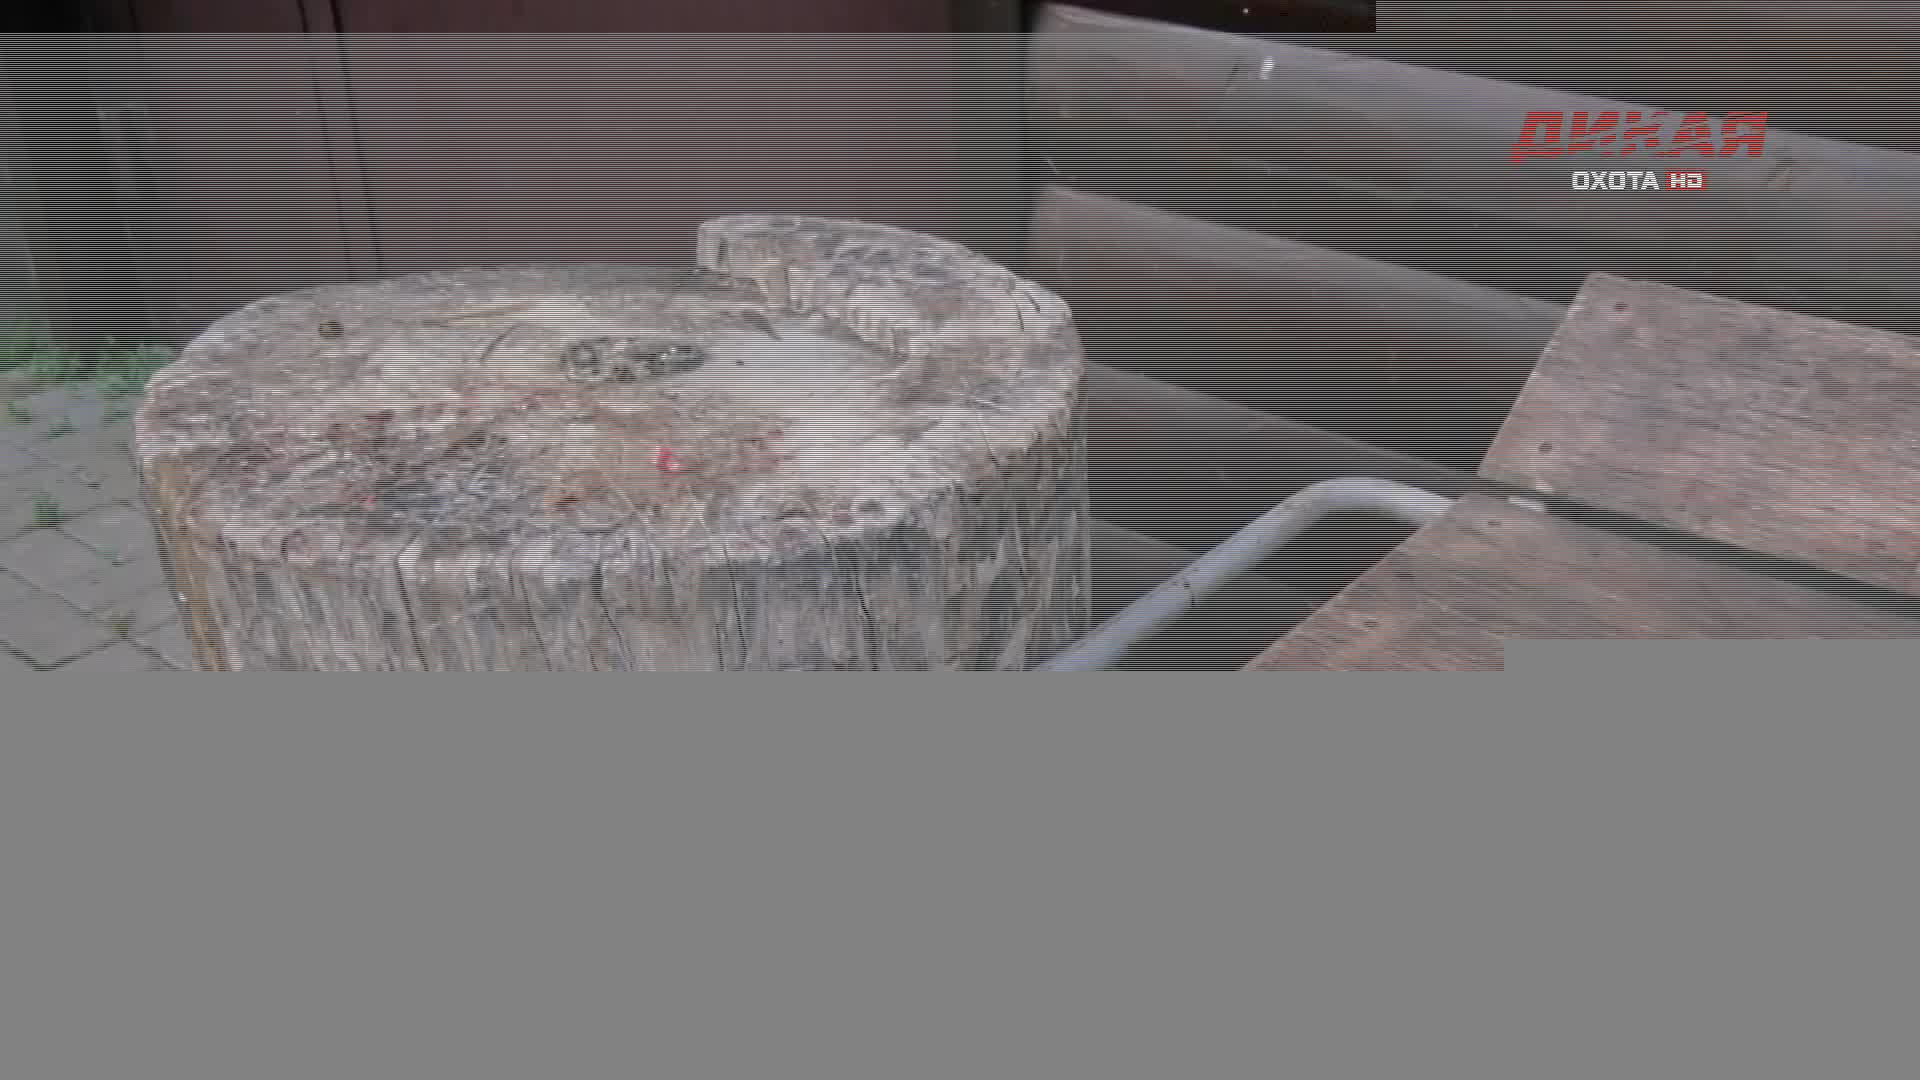Dikaya_Ohota_HD: (1505, 108, 1771, 195)
